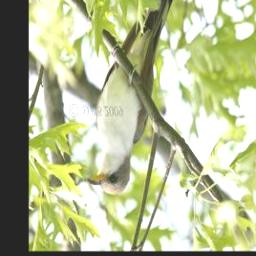Cuckoo: (86, 0, 176, 198)
